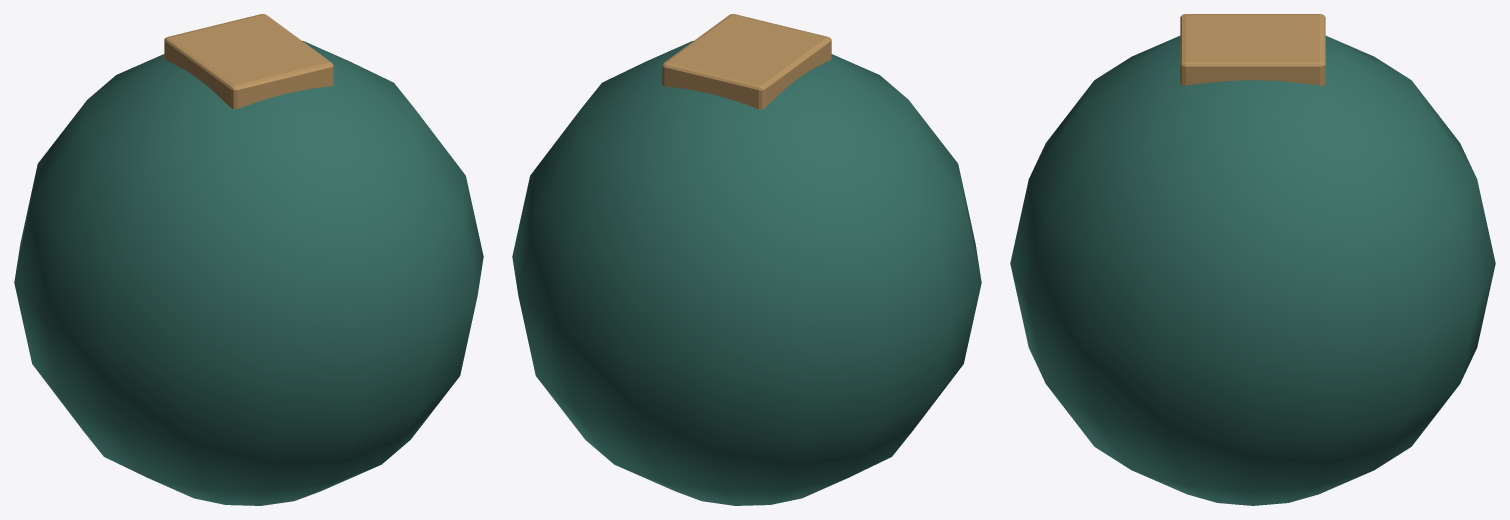
The model's file is SM_Keeper_Sobek_Tail0.fbx.
3 renders of one model, left to right at view 1: azimuth 30°, elevation 25°; view 2: azimuth 150°, elevation 25°; view 3: azimuth 270°, elevation 25°, orthographic. The views are drawn at different scales.
Parts seen in each view (by area): view 1: SM_Keeper_Sobek_Tail0; view 2: SM_Keeper_Sobek_Tail0; view 3: SM_Keeper_Sobek_Tail0.
Boxes of the visible parts, x1,y1,x2,y2 form: SM_Keeper_Sobek_Tail0: [14, 14, 483, 505]; SM_Keeper_Sobek_Tail0: [512, 14, 981, 505]; SM_Keeper_Sobek_Tail0: [1010, 14, 1495, 505].
Size of the model in its own units: 2 by 2.02 by 2.
